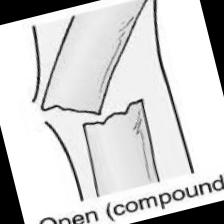open-compound-fracture: (11, 0, 194, 212)
